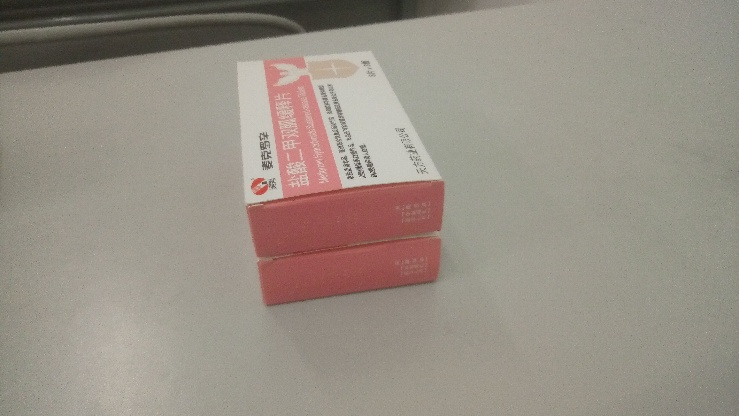pillbox: (227, 50, 444, 246), (258, 241, 443, 307)
